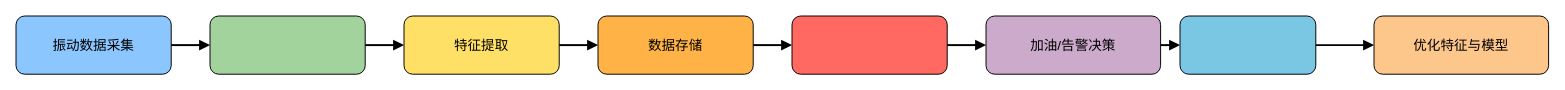
Some shapes in this 1565 by 90 pixel diagram are drawn without their labels. Here are the shapes that lost their labels. From the top down, the centre of each, then its label:
the point at 287,44: 预处理模块
the point at 869,44: 诊断模块
the point at 1247,44: 统计分析
